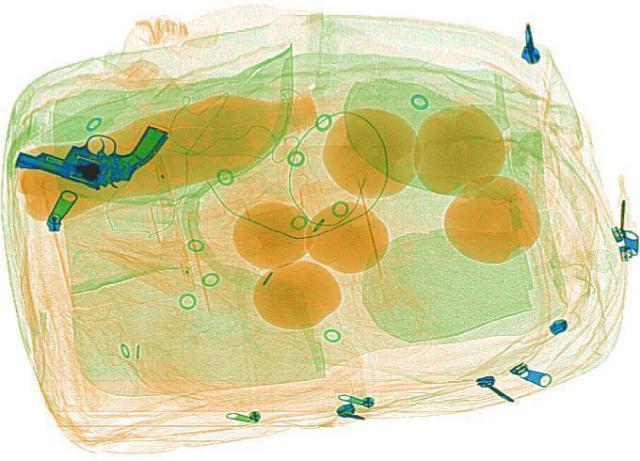Gun: (8, 124, 176, 197)
